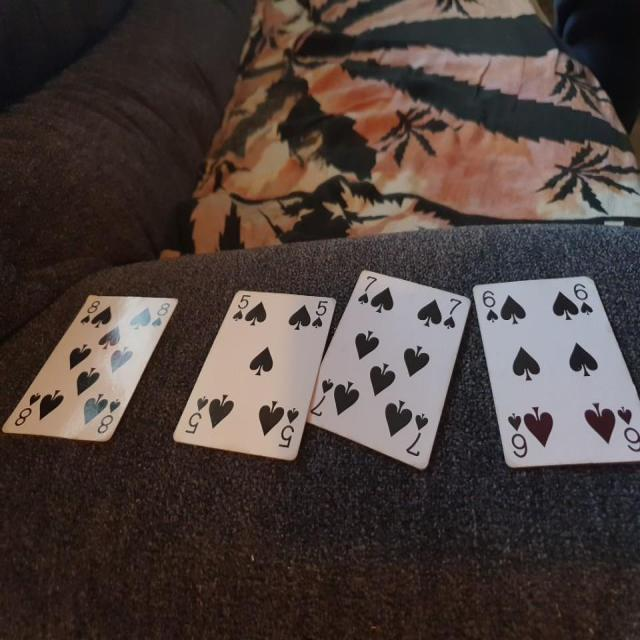5 Spades: (169, 273, 333, 486)
6 Spades: (472, 273, 634, 485)
7 Spades: (305, 255, 479, 503)
8 Spades: (4, 280, 177, 461)
